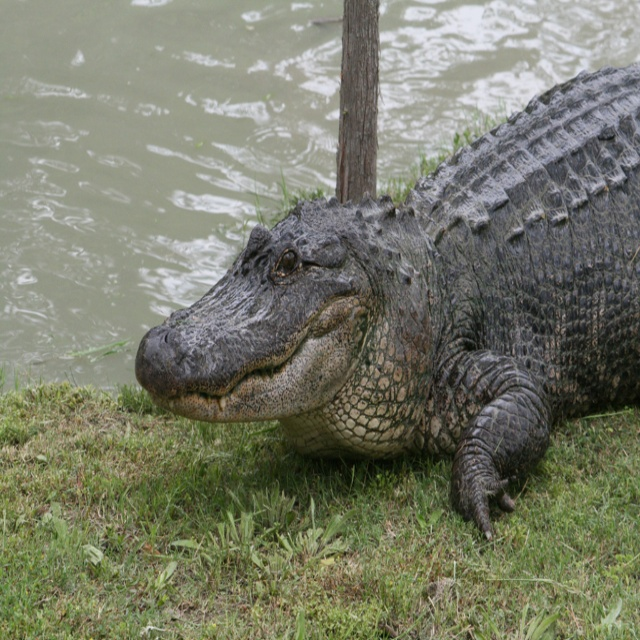Crocodile: (131, 64, 639, 538)
